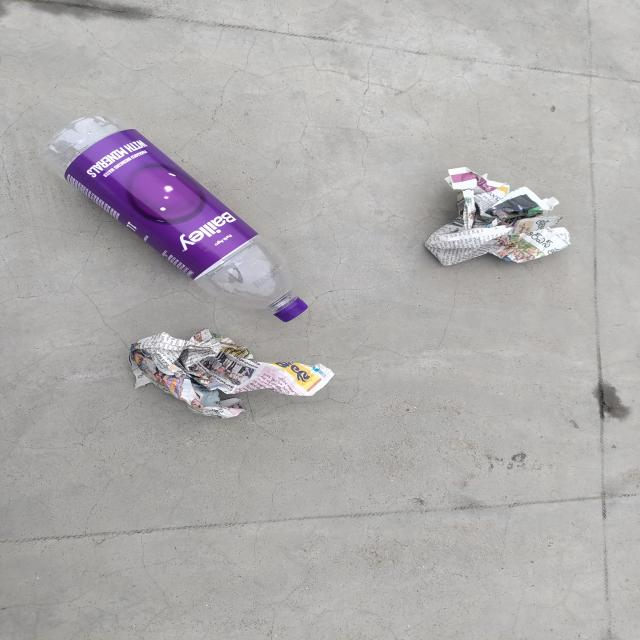paper: (127, 326, 335, 421), (420, 163, 573, 270)
plastic: (41, 116, 312, 321)
